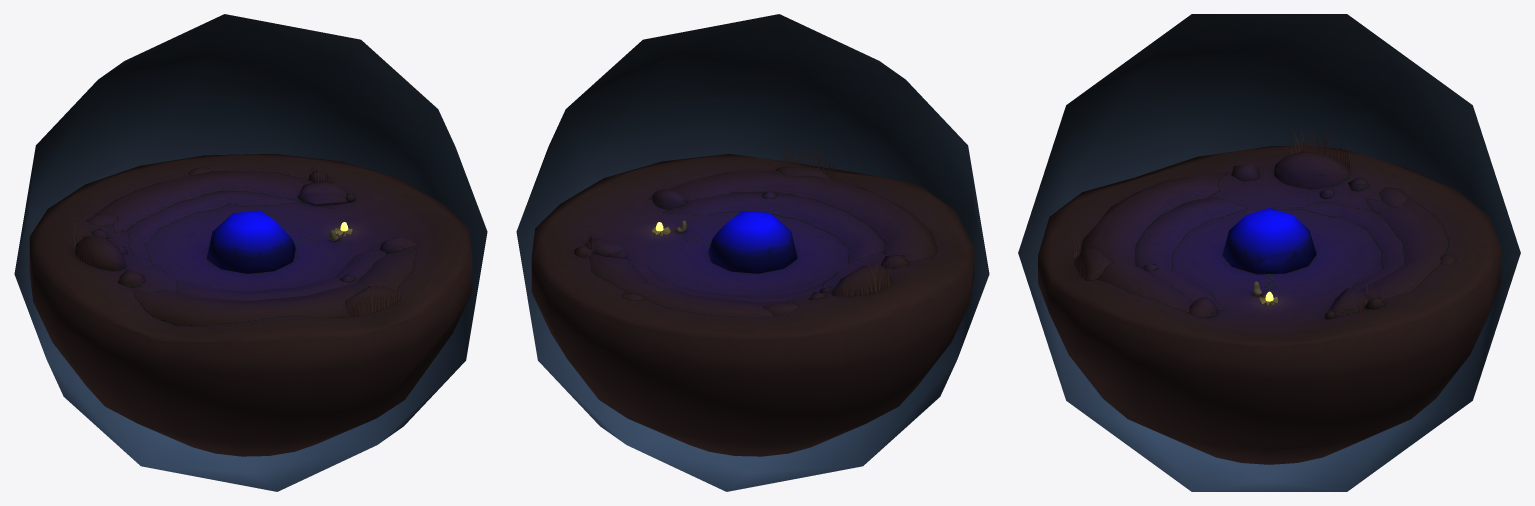
3 renders of one model, left to right at view 1: azimuth 30°, elevation 25°; view 2: azimuth 150°, elevation 25°; view 3: azimuth 270°, elevation 25°, orthographic. The views are drawn at different scales.
Parts seen in each view (by area): view 1: ground.010, envirosphere.009, lodge.007, GRASS.021; view 2: ground.010, envirosphere.009, lodge.007, GRASS.022; view 3: ground.010, envirosphere.009, lodge.007, GRASS.022.
Boxes of the visible parts, left/top/right/bottom form: ground.010: left=29, top=153, right=472, bottom=456; envirosphere.009: left=14, top=14, right=487, bottom=491; lodge.007: left=207, top=210, right=295, bottom=273; GRASS.021: left=348, top=273, right=401, bottom=316; ground.010: left=531, top=154, right=974, bottom=456; envirosphere.009: left=516, top=14, right=989, bottom=491; lodge.007: left=708, top=210, right=797, bottom=273; GRASS.022: left=843, top=261, right=891, bottom=296; ground.010: left=1038, top=145, right=1500, bottom=464; envirosphere.009: left=1018, top=14, right=1520, bottom=491; lodge.007: left=1222, top=208, right=1316, bottom=274; GRASS.022: left=1290, top=130, right=1349, bottom=170.
Size of the model in its own units: 13.02 by 13.69 by 13.69.
8 materials, 4 textured.
